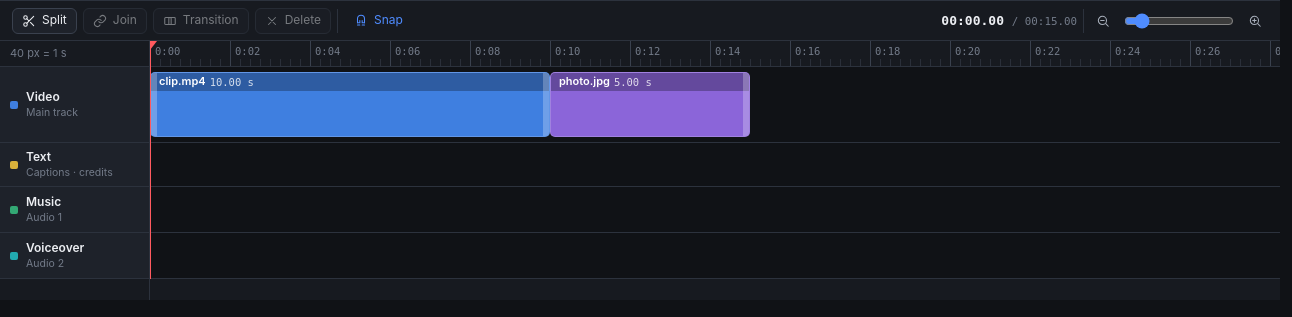
Test: timeline tracks and tools › the zoom slider changes how many pixels show one second
Set the slider named "Timeline zoom" to "80" at x=1154, y=20, box [1124,12,1234,28]
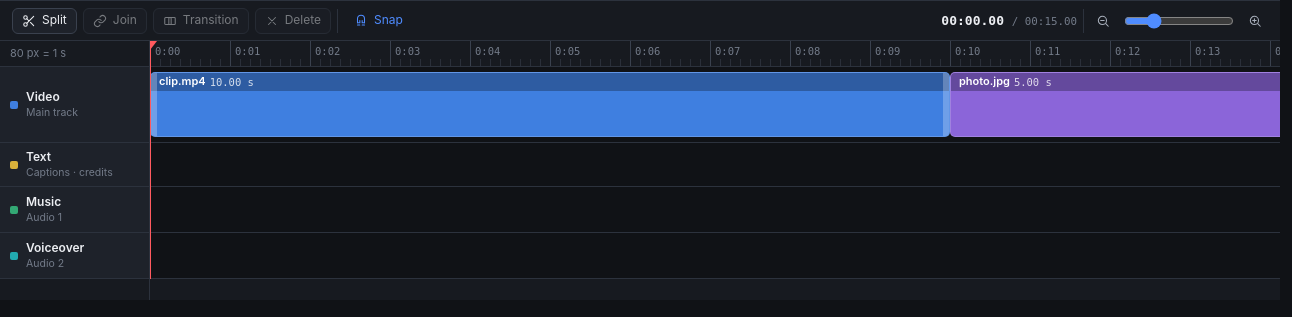
expect the text "80 px = 1 s" is shown: met, box [0,41,149,67]
